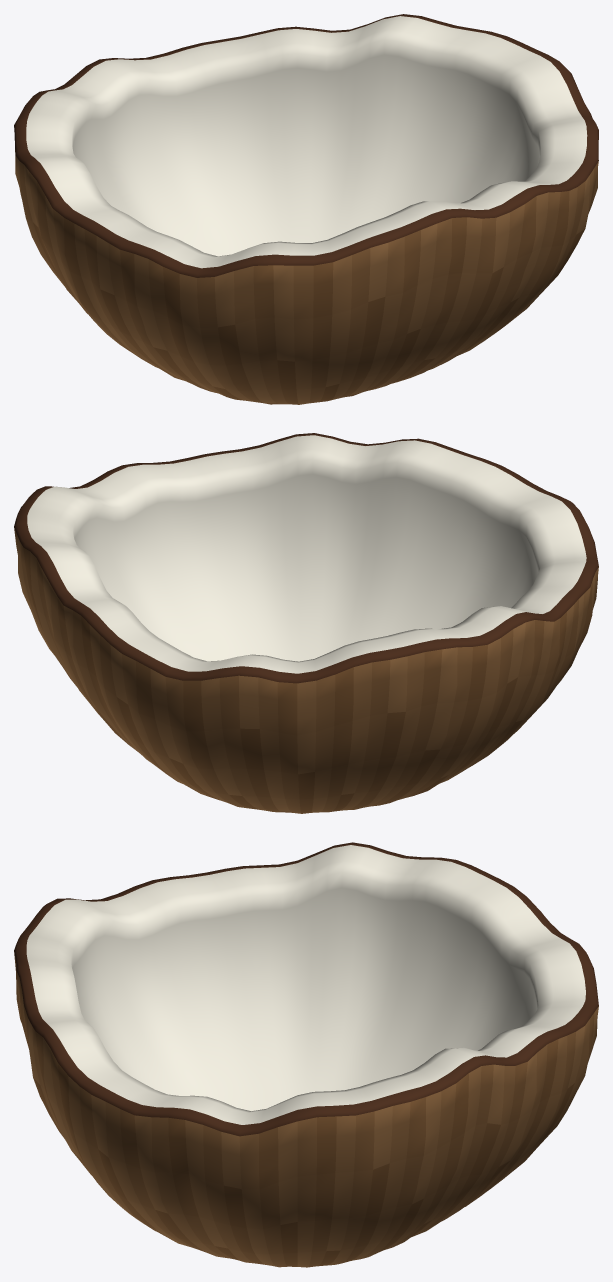
The picture shows the model from 3 angles, top to bottom: view 1: azimuth 30°, elevation 25°; view 2: azimuth 150°, elevation 25°; view 3: azimuth 270°, elevation 25°; orthographic projection. The views are drawn at different scales.
Visible parts, largest first — view 1: NEW310_Coconut_half_LOD1; view 2: NEW310_Coconut_half_LOD1; view 3: NEW310_Coconut_half_LOD1.
Boxes of the visible parts, <box> form: NEW310_Coconut_half_LOD1: <box>14,14,598,404</box>; NEW310_Coconut_half_LOD1: <box>14,433,598,813</box>; NEW310_Coconut_half_LOD1: <box>14,842,598,1267</box>.
Size of the model in its own units: 0.1629 by 0.0757 by 0.1505.
